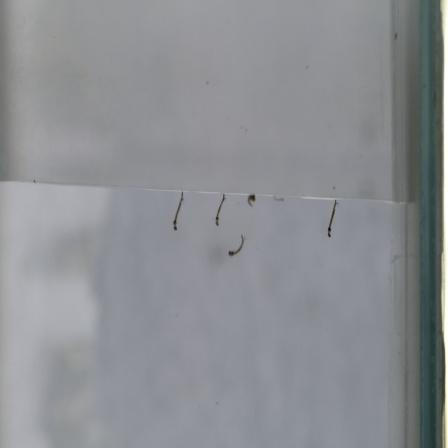Jentik-Nyamuk: (320, 197, 341, 239), (170, 188, 188, 235), (224, 228, 247, 263), (210, 193, 229, 228), (245, 192, 258, 212)
